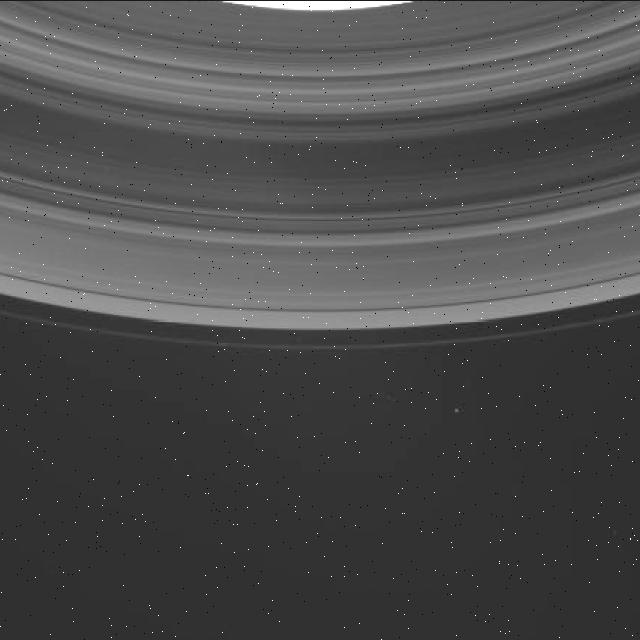Saturn: (0, 0, 640, 355)
